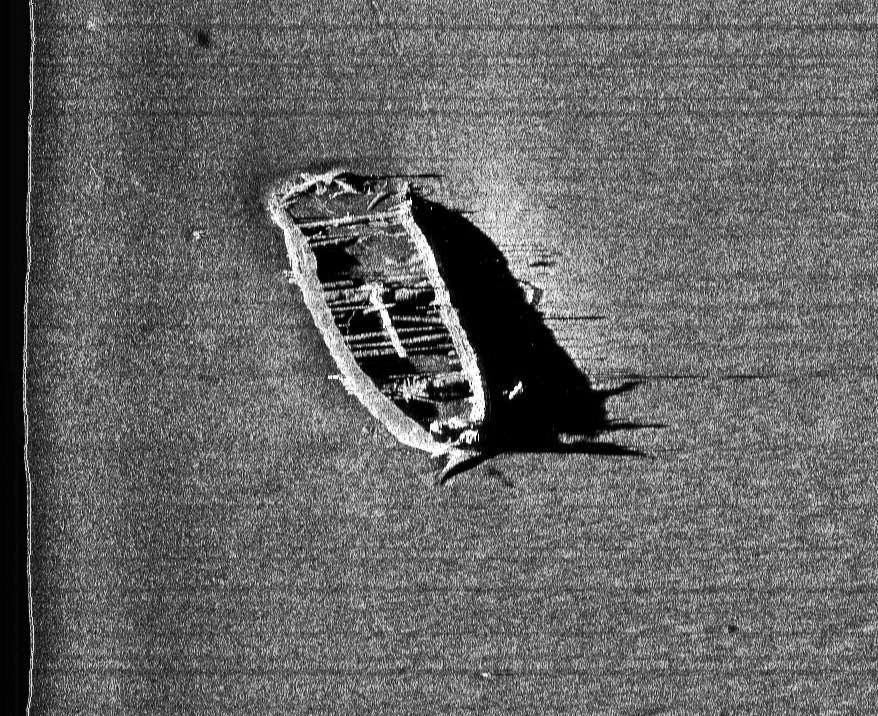ship: (267, 168, 494, 462)
